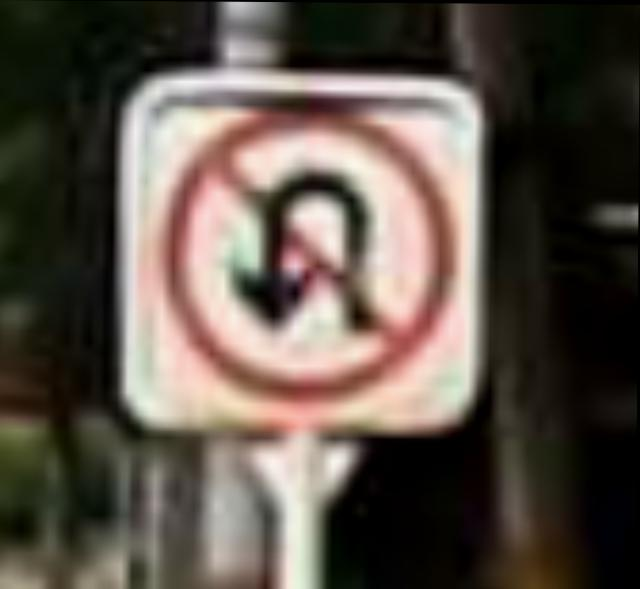not_u_turn_left: (156, 115, 463, 388)
